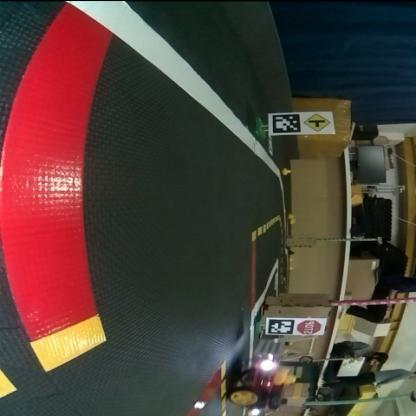Duckie: (274, 367, 296, 386), (283, 168, 291, 174), (287, 256, 295, 262), (288, 213, 294, 219), (291, 218, 297, 224)
Duckiebot: (230, 359, 284, 410)
Intersection sign: (304, 112, 332, 134)
QR code: (272, 113, 302, 134), (268, 319, 296, 335)
Stop sign: (297, 318, 325, 336)
